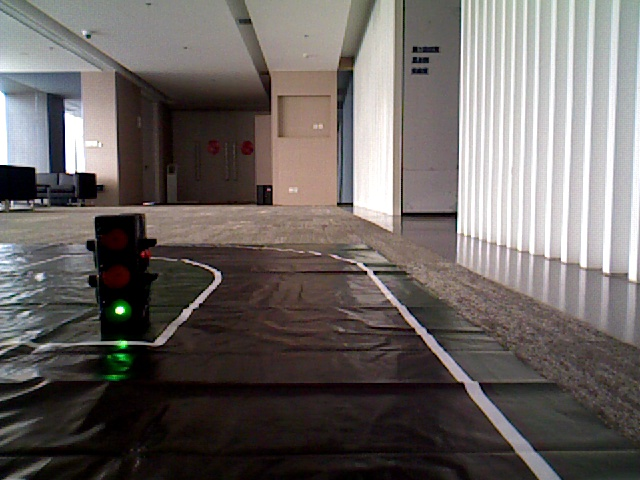green: (92, 221, 142, 330)
